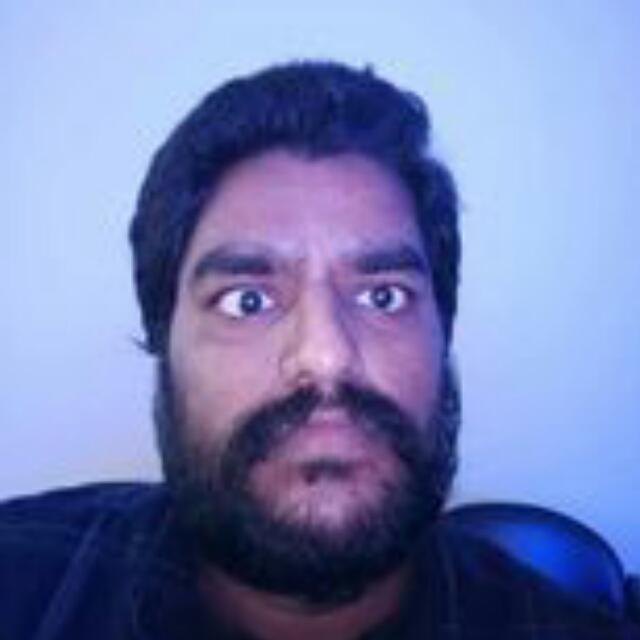Angry: (86, 137, 481, 564)
